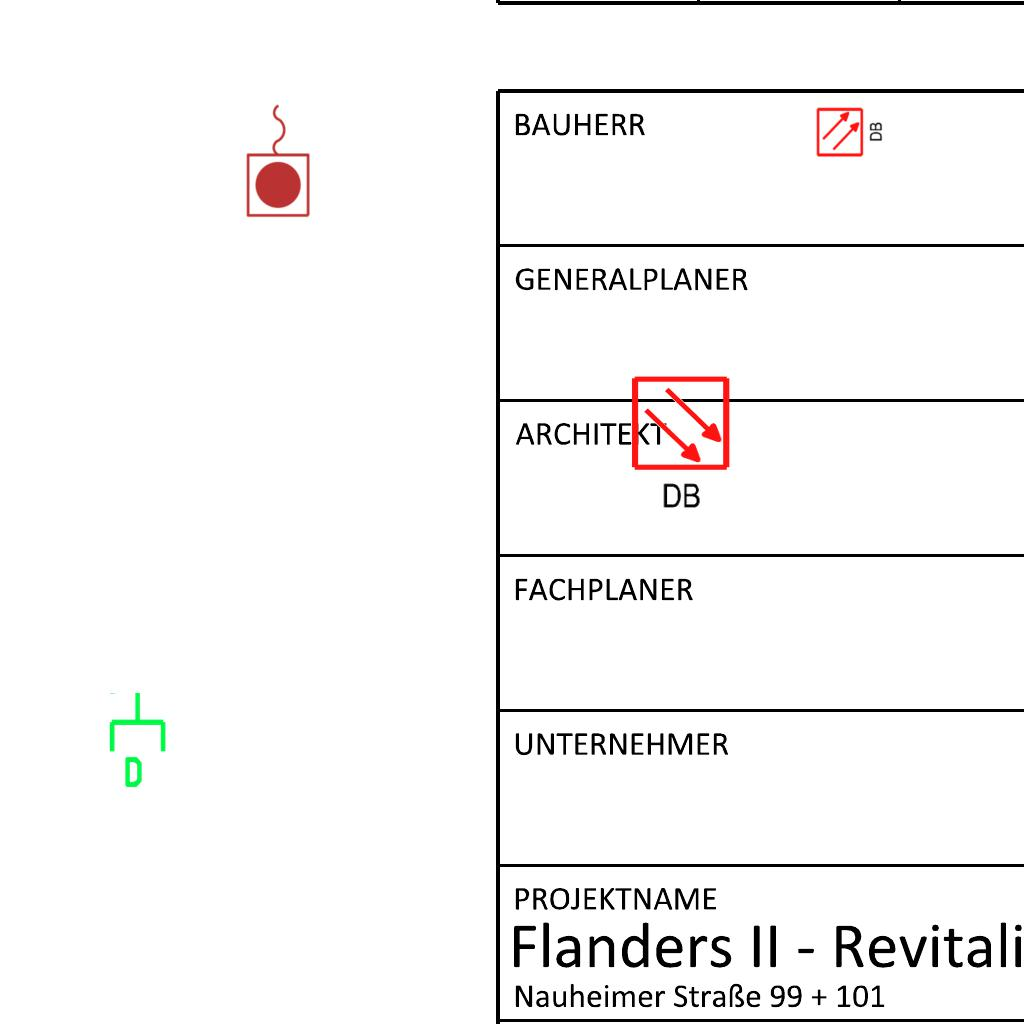DB_Melder_in_Doppelboden_mit_Revisionsoeffnung_mind_40_x_40_cm: (625, 369, 739, 518), (813, 103, 887, 160)
Datenanschluss_einfach: (105, 690, 174, 790)
Zugtaster: (243, 99, 315, 221)
